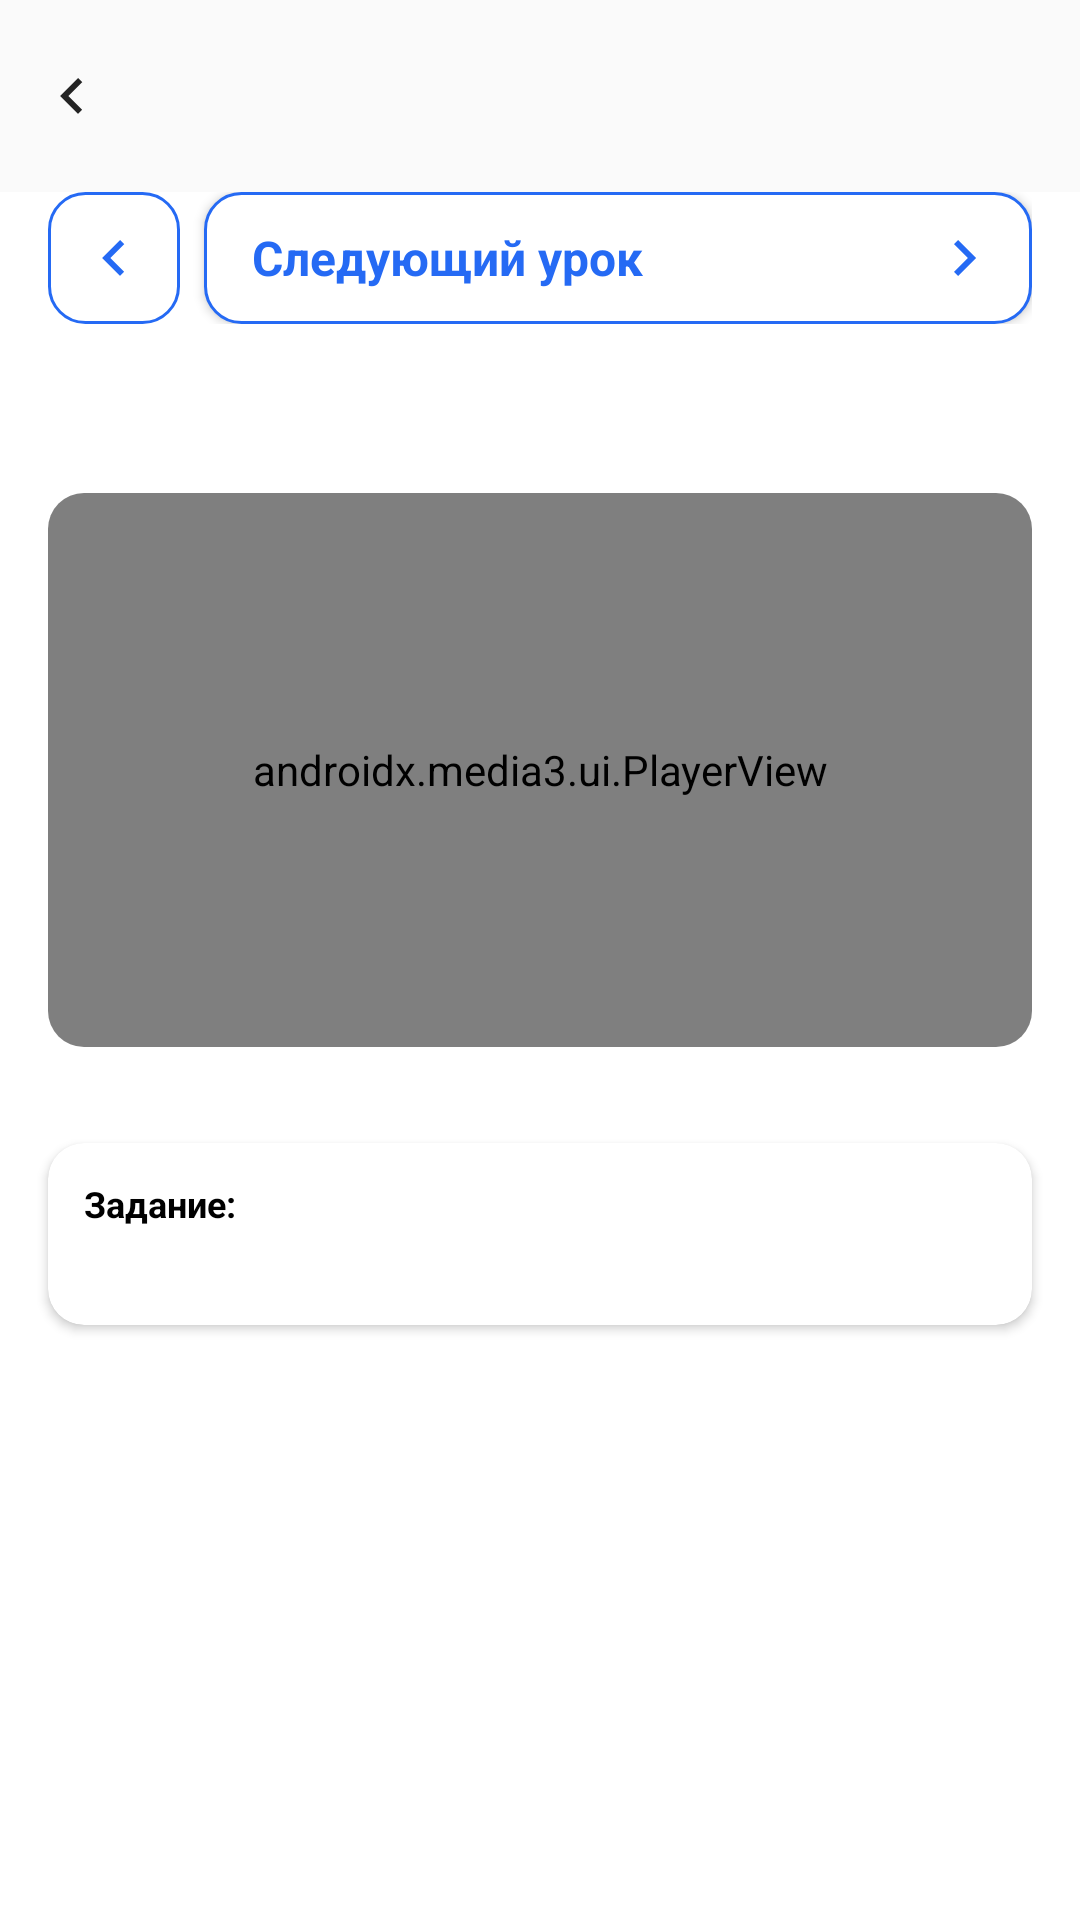

Screen size 1080×1920. Icon name, then its center in pixels as point (x, y):
GO BACK: point (71, 96)
